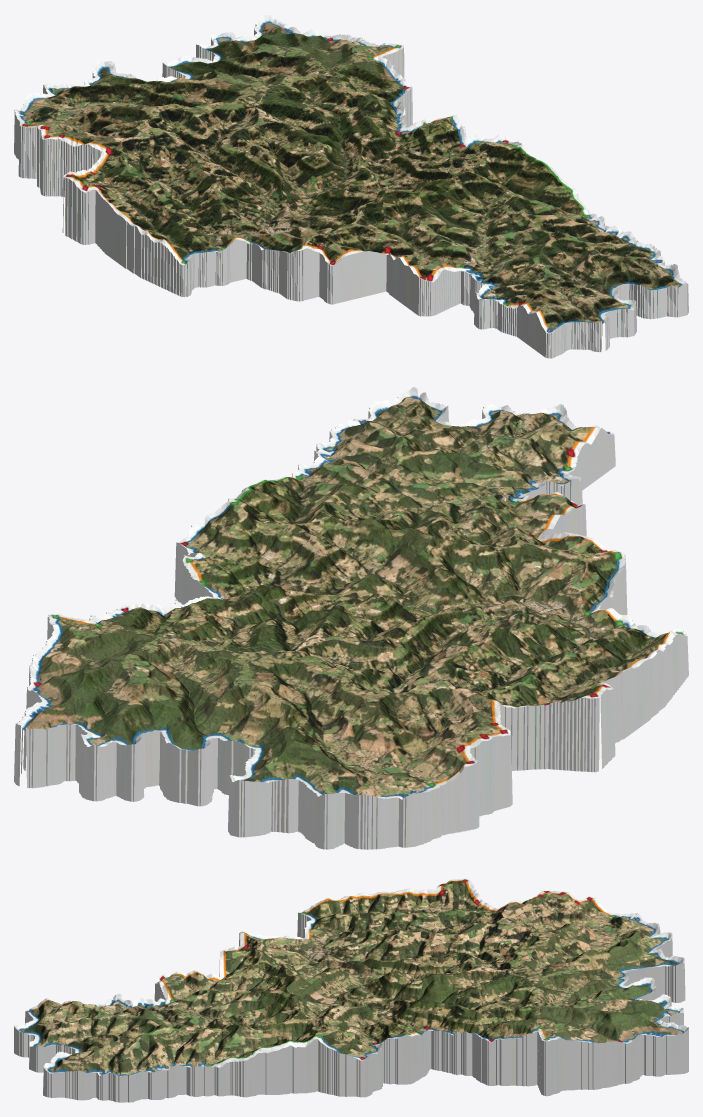
The picture shows the model from 3 angles, top to bottom: view 1: azimuth 30°, elevation 25°; view 2: azimuth 150°, elevation 25°; view 3: azimuth 270°, elevation 25°; orthographic projection. The views are drawn at different scales.
Bounding box in the file's own units: 0.9999 × 0.1471 × 1.65.
Materials: 1 (1 with a texture image).
